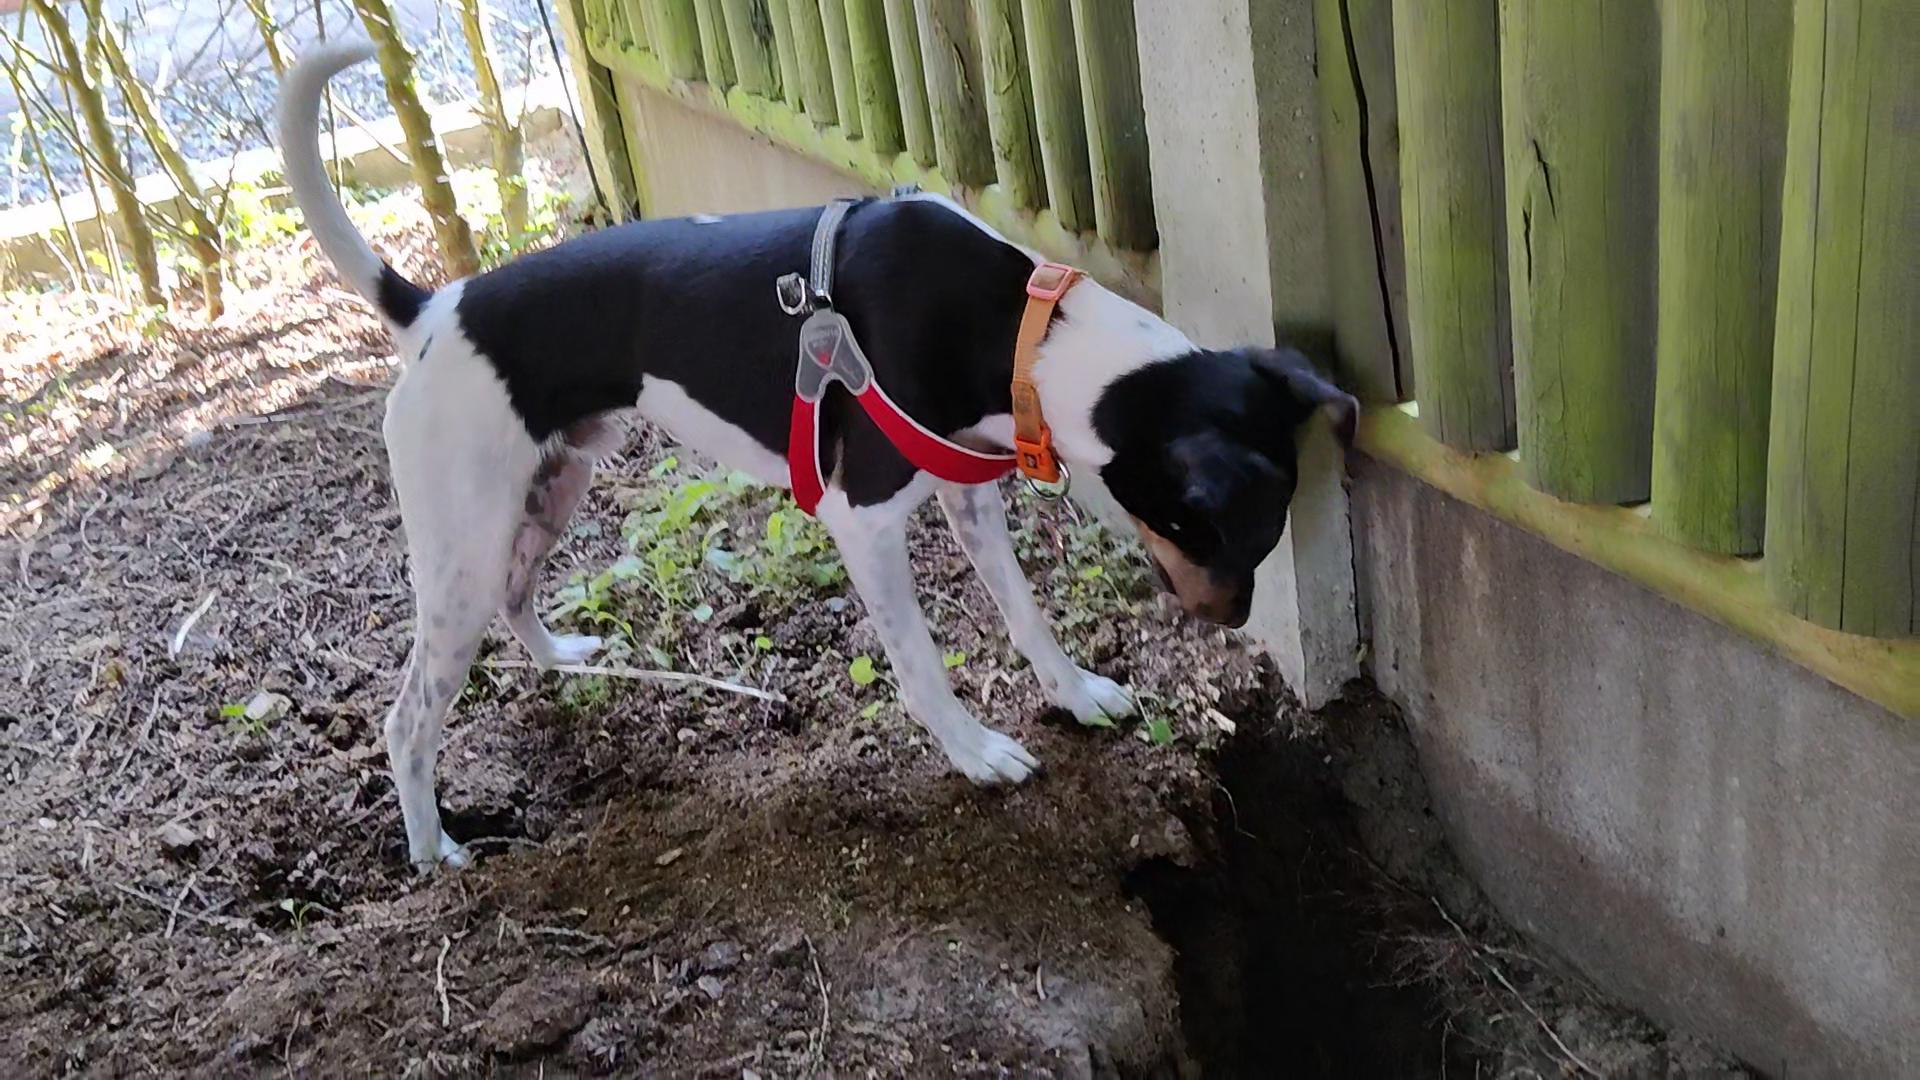Dog: (251, 24, 1374, 897)
